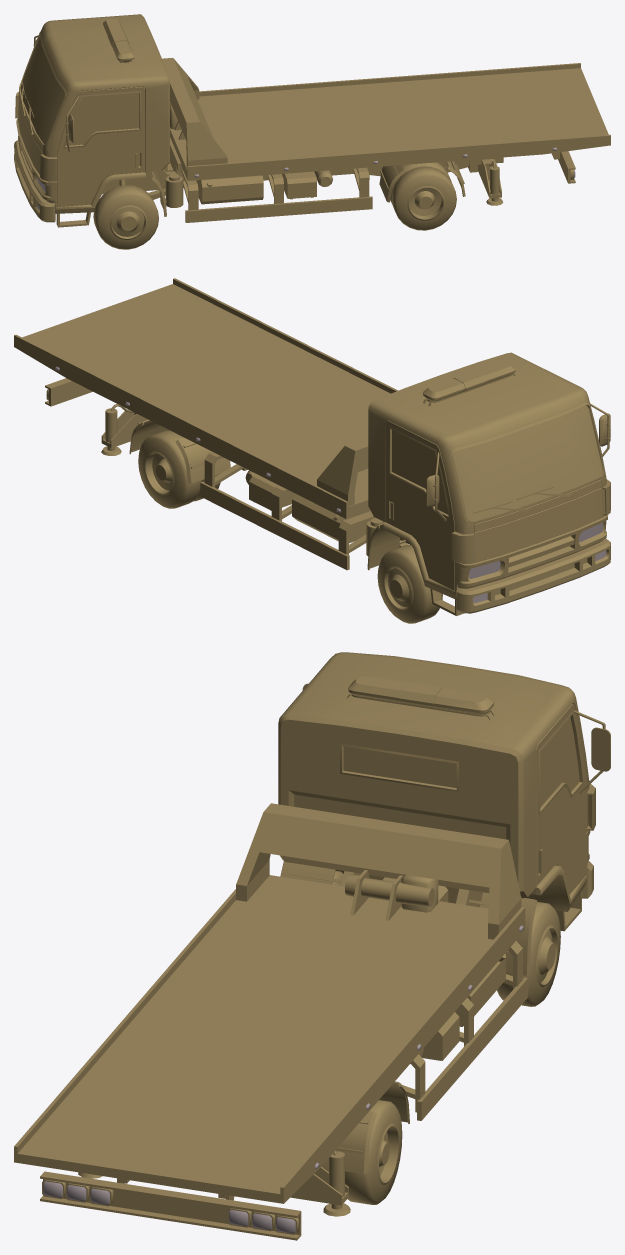
Rendered from veh-grua.glb.
3 renders of one model, top to bottom at view 1: azimuth 30°, elevation 25°; view 2: azimuth 150°, elevation 25°; view 3: azimuth 270°, elevation 25°, orthographic. The views are drawn at different scales.
Visible parts, largest first — view 1: towtruck; view 2: towtruck; view 3: towtruck.
Part boxes in pixels (x1,y1,x2,y2): towtruck: [14, 14, 610, 249]; towtruck: [14, 278, 610, 623]; towtruck: [14, 652, 610, 1240].
Bounding box in the file's own units: 7.13 × 2.39 × 4.33.
